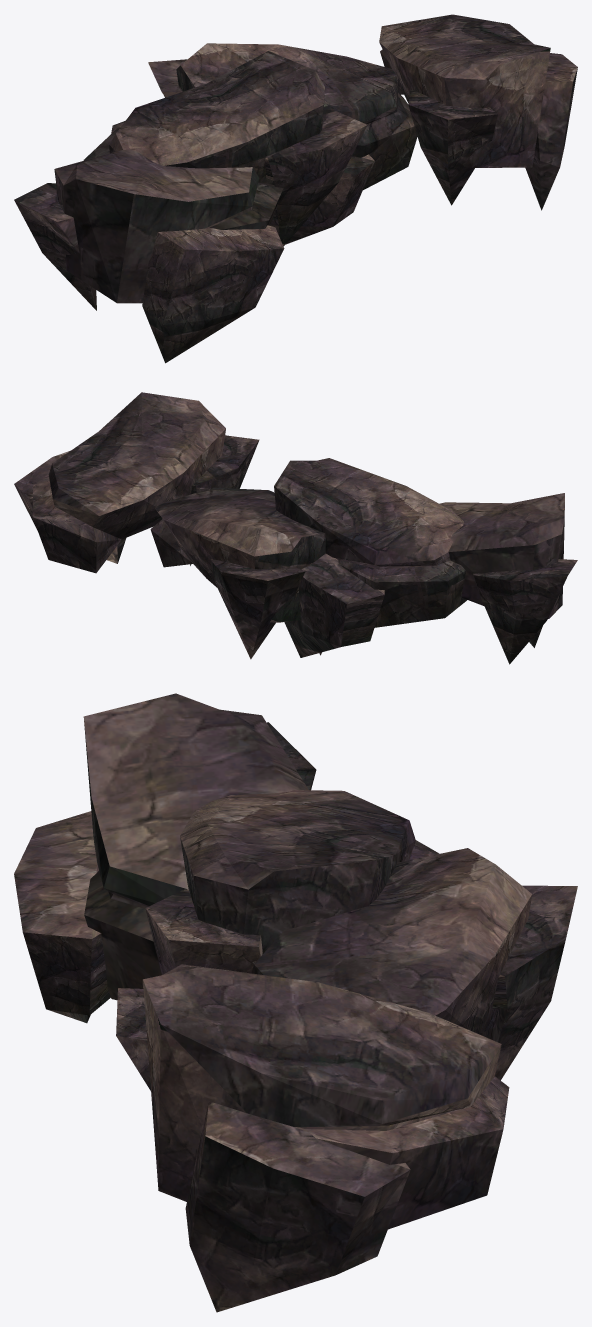
File: S_Rock_Black095.FBX
3 renders of one model, top to bottom at view 1: azimuth 30°, elevation 25°; view 2: azimuth 150°, elevation 25°; view 3: azimuth 270°, elevation 25°, orthographic. The views are drawn at different scales.
Visible parts, largest first — view 1: S_Rock_Black095; view 2: S_Rock_Black095; view 3: S_Rock_Black095.
Boxes of the visible parts, box(x1,y1,x2,y2) form: S_Rock_Black095: box(14, 14, 577, 363); S_Rock_Black095: box(14, 392, 577, 664); S_Rock_Black095: box(14, 693, 577, 1312).
Size of the model in its own units: 923 by 493 by 304.
